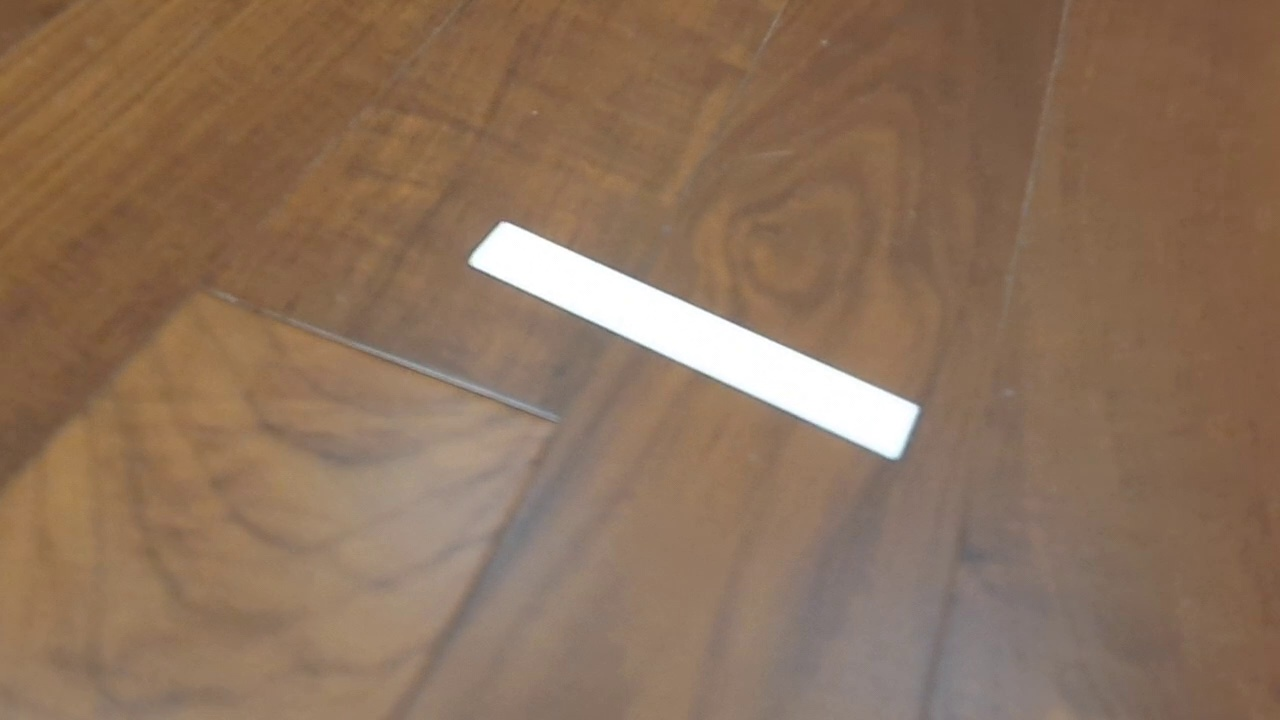ruler: (466, 219, 922, 462)
